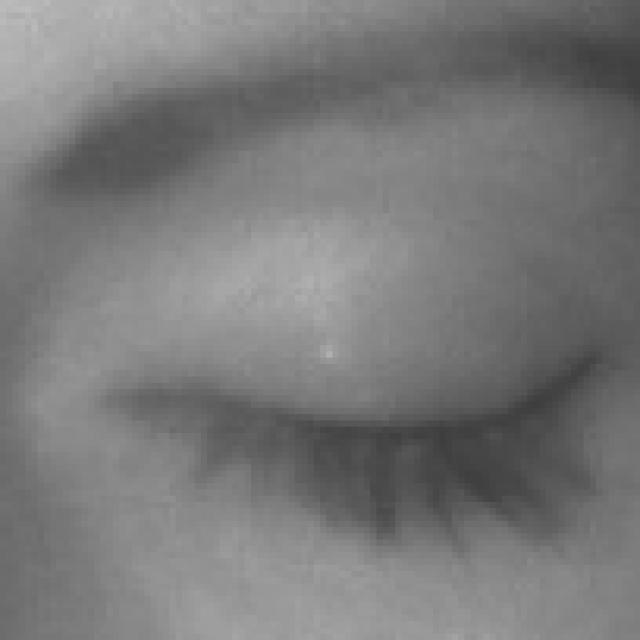Eyeclosed: (162, 197, 600, 640)
